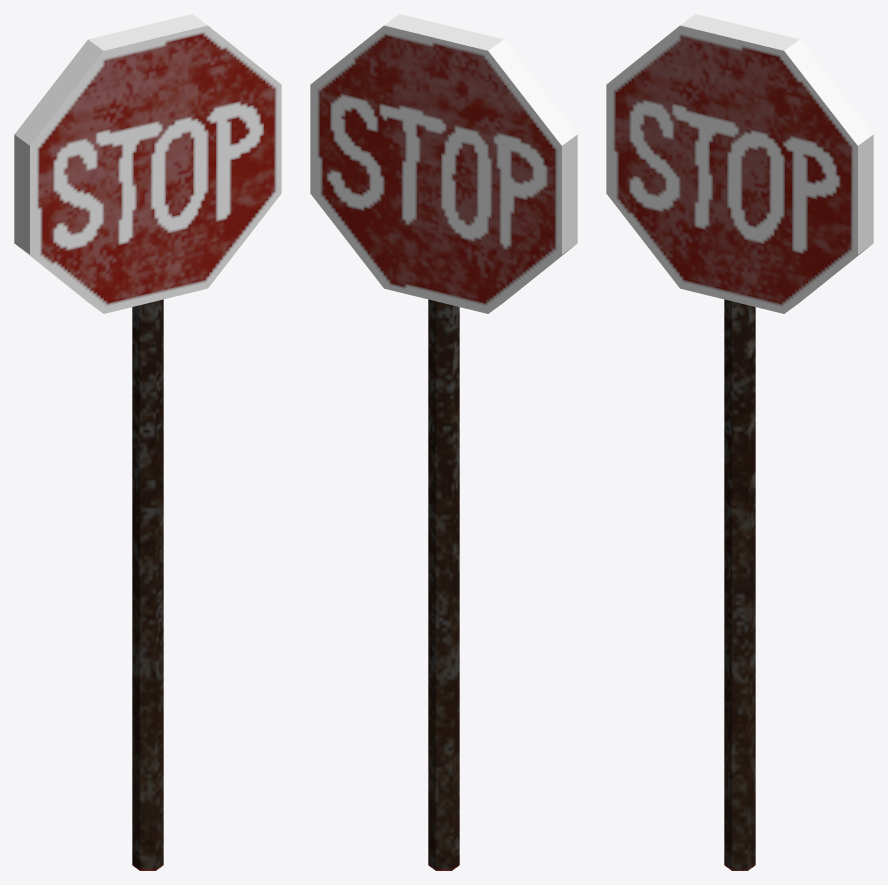
Rendered from StopSign.fbx.
3 renders of one model, left to right at view 1: azimuth 30°, elevation 25°; view 2: azimuth 150°, elevation 25°; view 3: azimuth 330°, elevation 25°, orthographic.
Parts seen in each view (by area): view 1: StopSign; view 2: StopSign; view 3: StopSign.
Part boxes in pixels (x1,y1,x2,y2): StopSign: [14, 14, 281, 870]; StopSign: [310, 14, 577, 870]; StopSign: [606, 14, 873, 870].
Size of the model in its own units: 185 by 585 by 20.
1 material, 1 textured.
